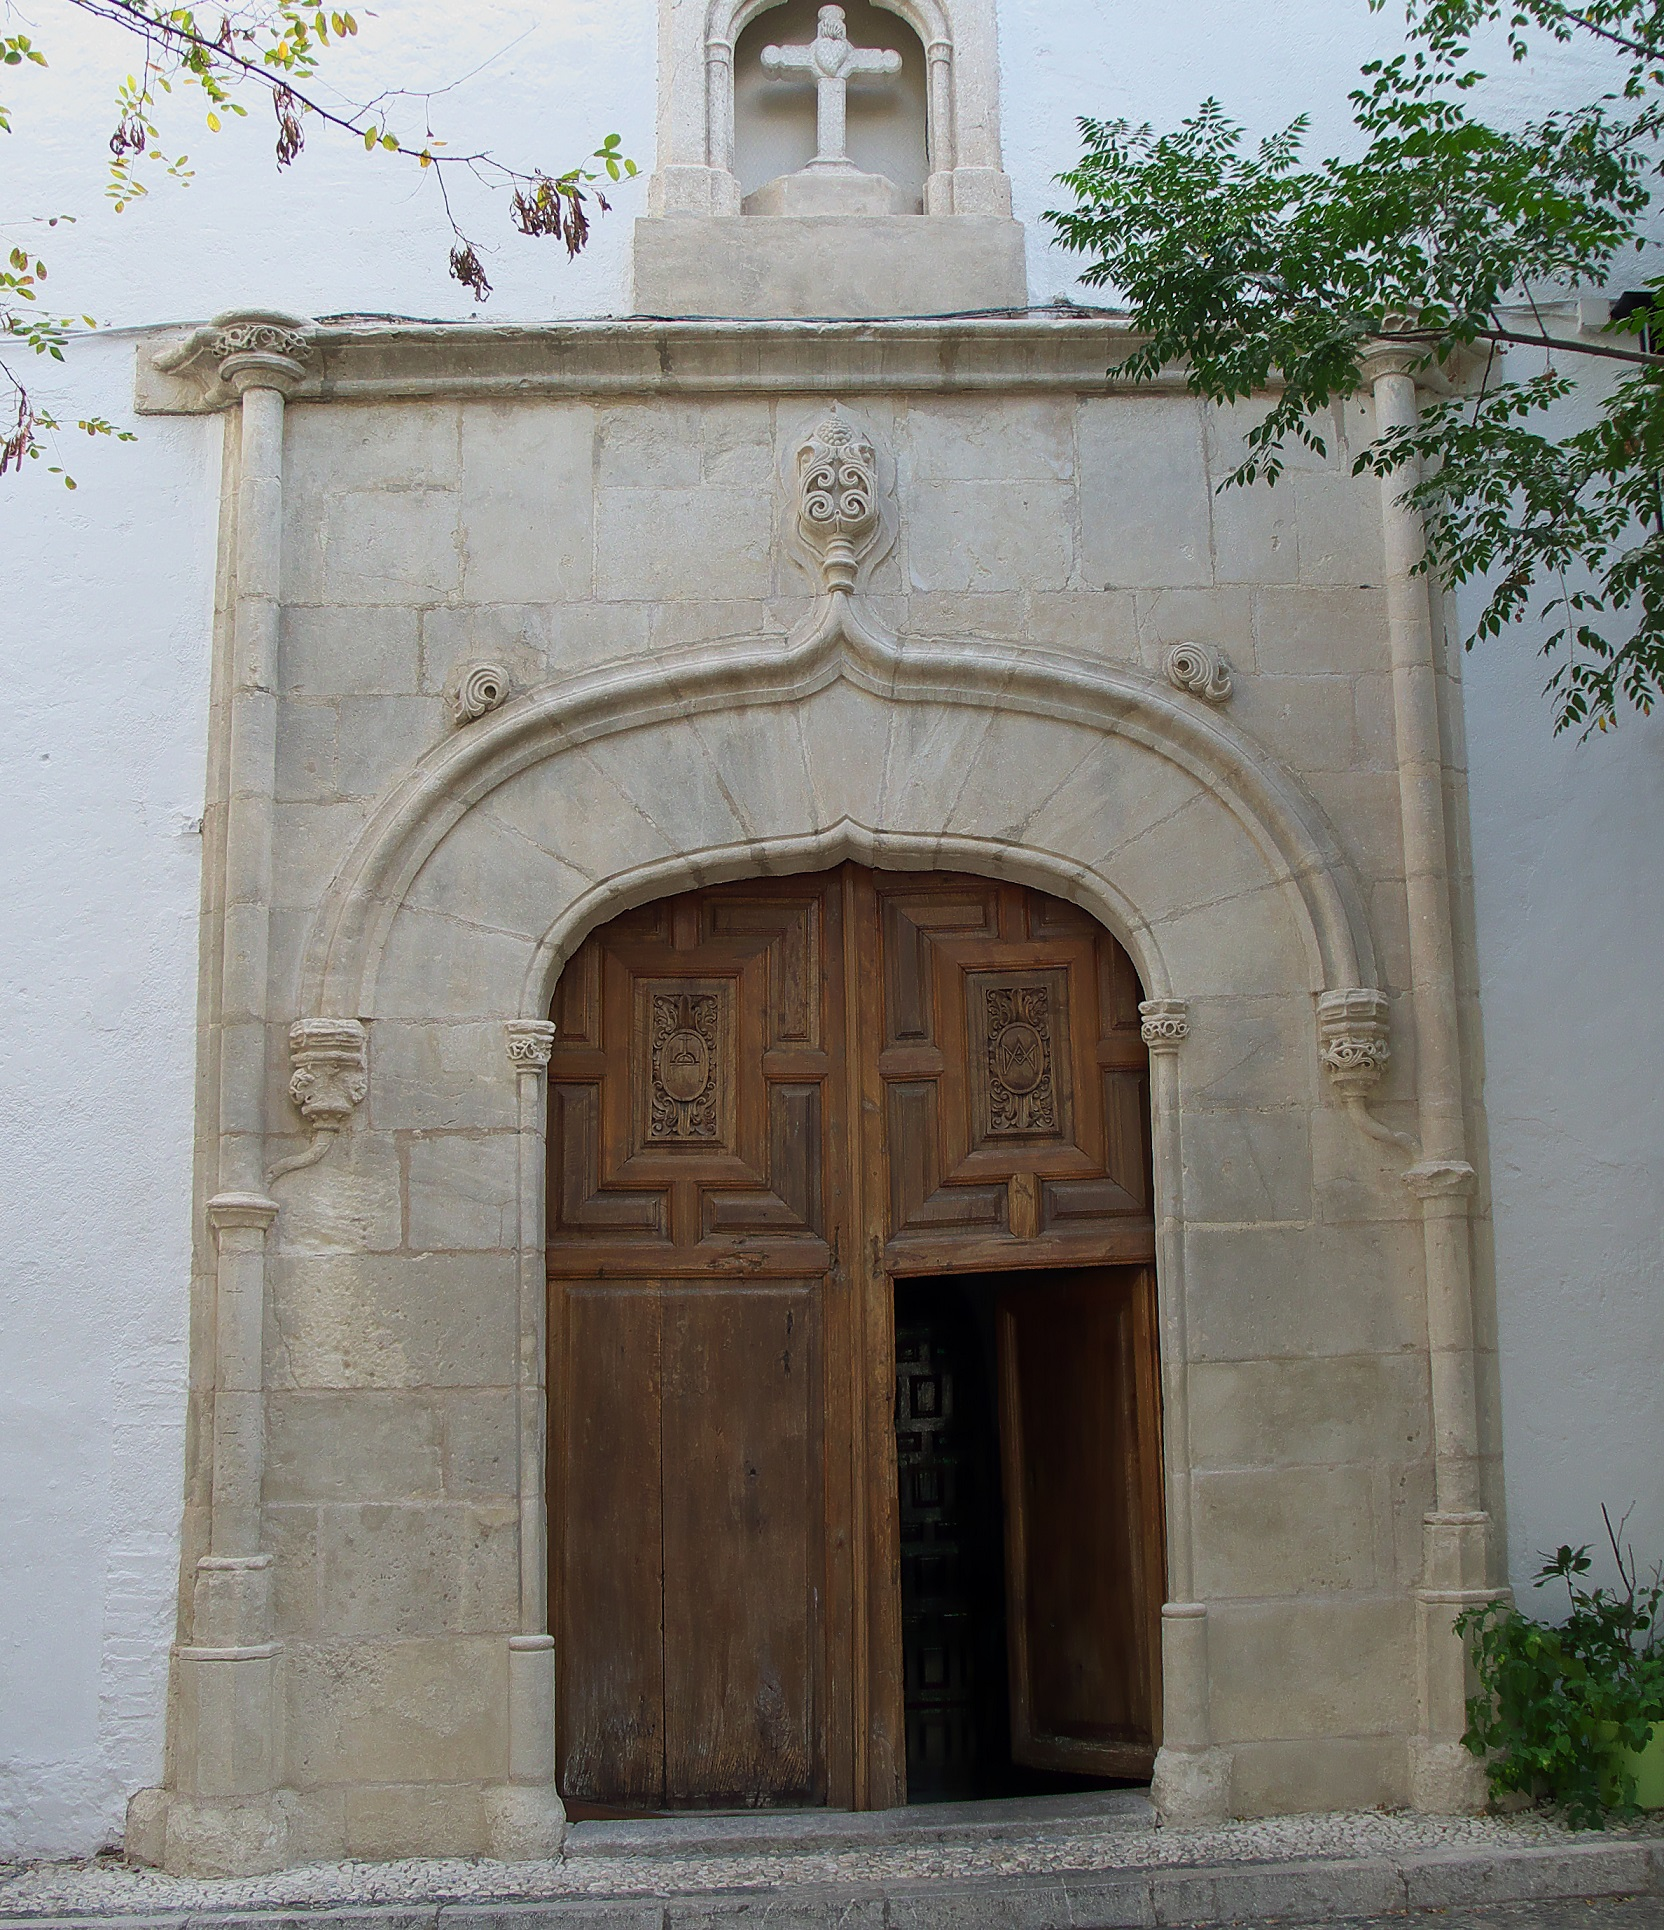arco-conopial: (412, 579, 1280, 753), (543, 799, 1124, 927)
